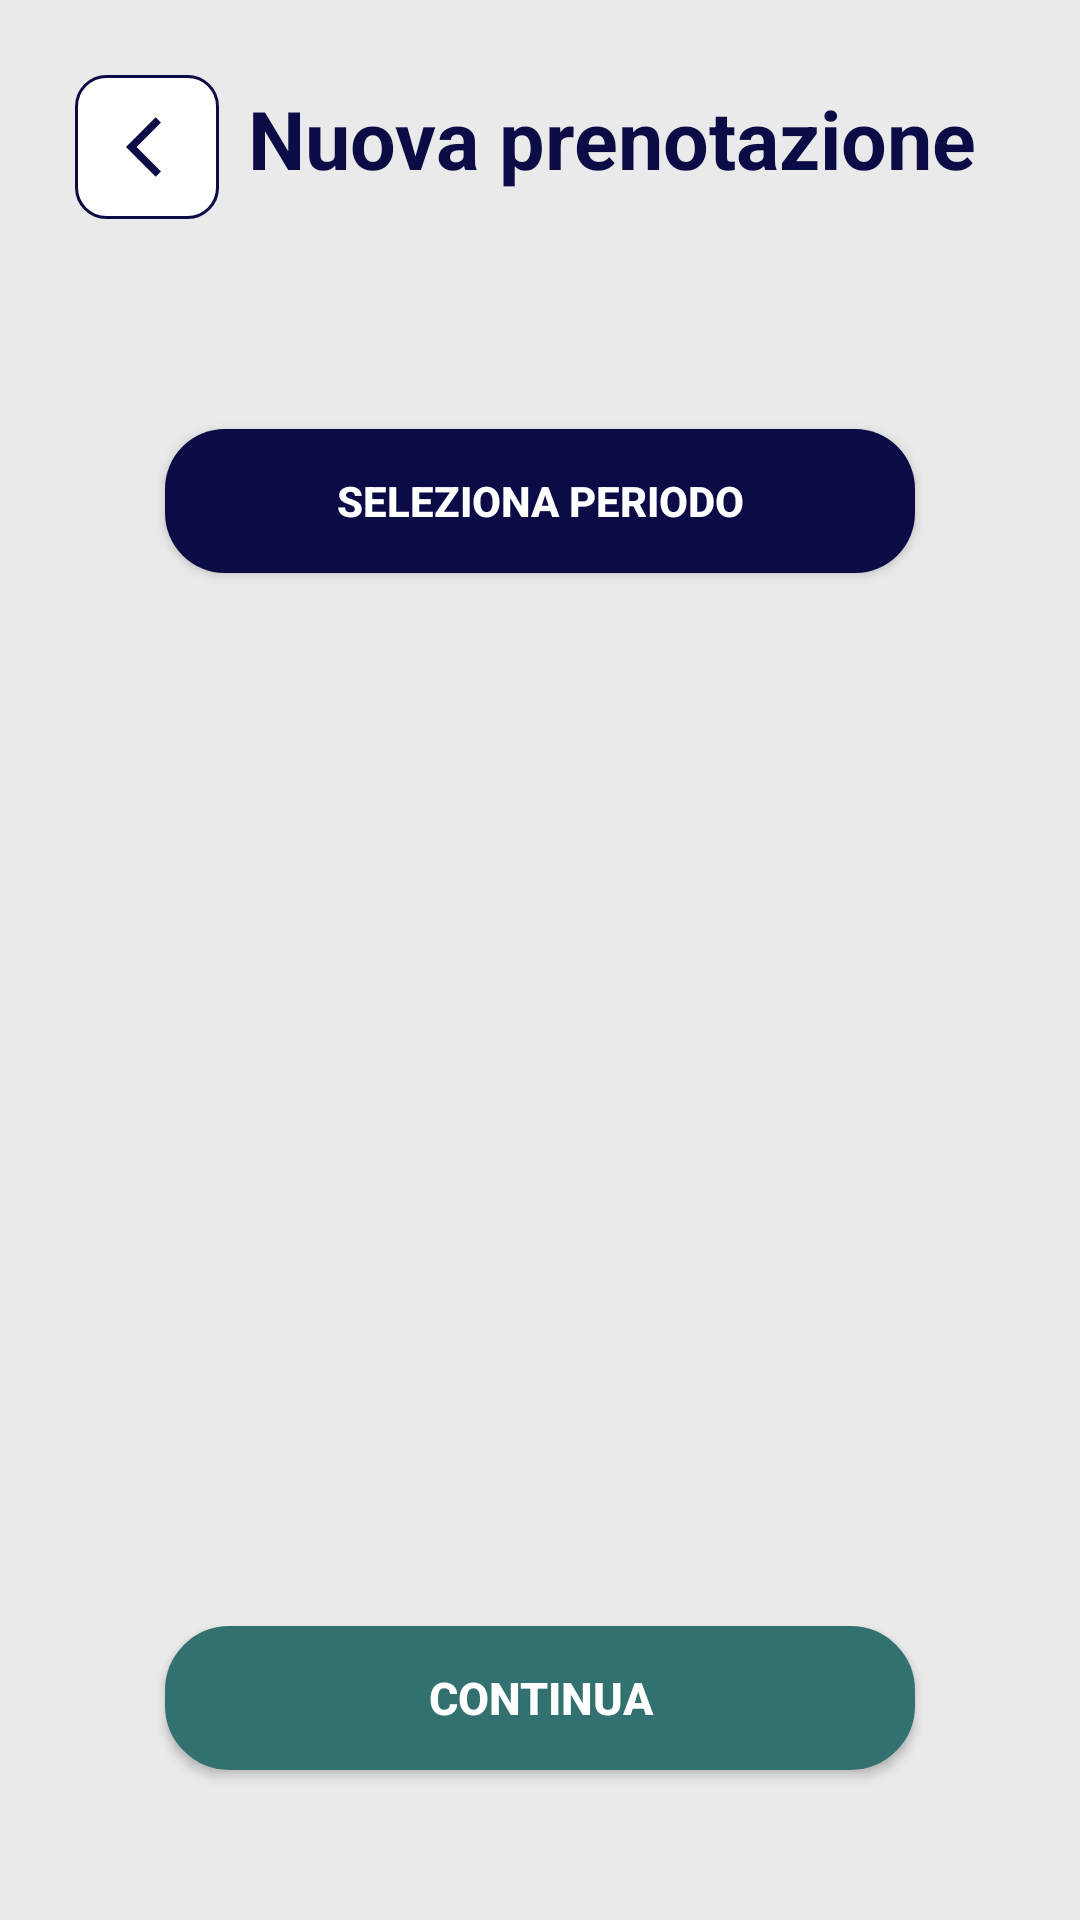

Icons on this 1080×1920 Android screen, each with the point to tap as (x=x, y=y):
Indietro: (x=147, y=147)
